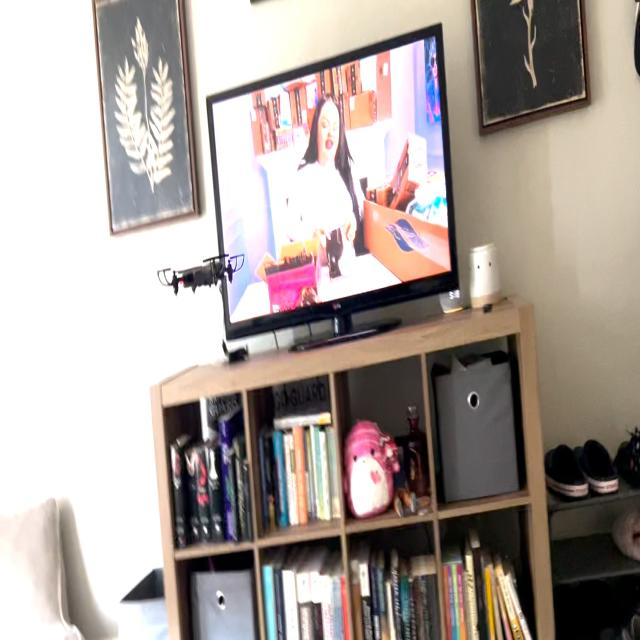drone: (148, 236, 255, 304)
